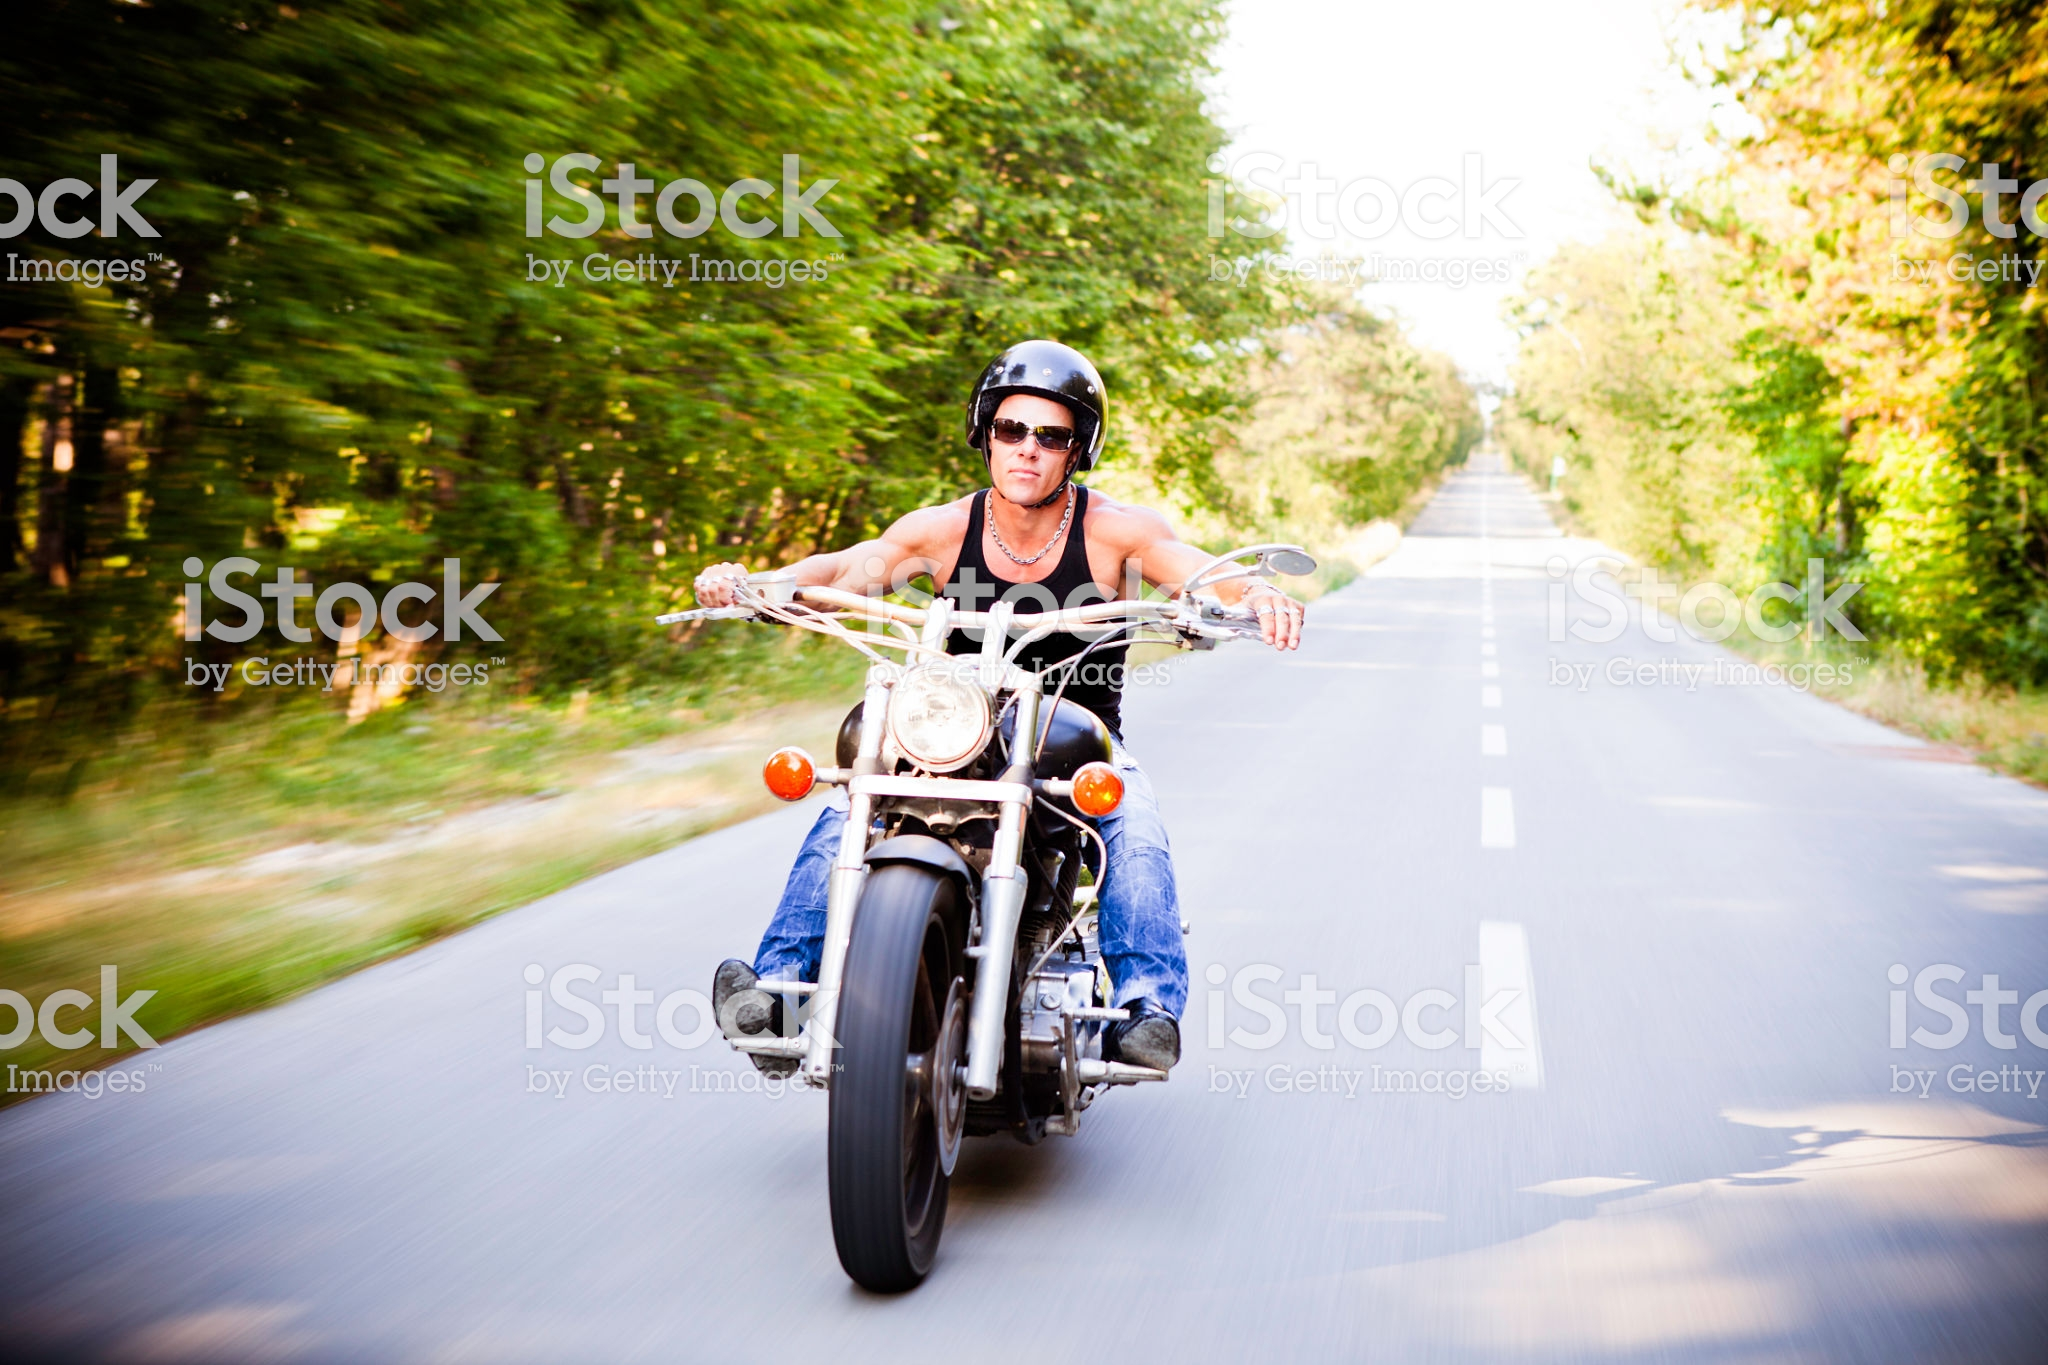helmet: (949, 334, 1098, 462)
